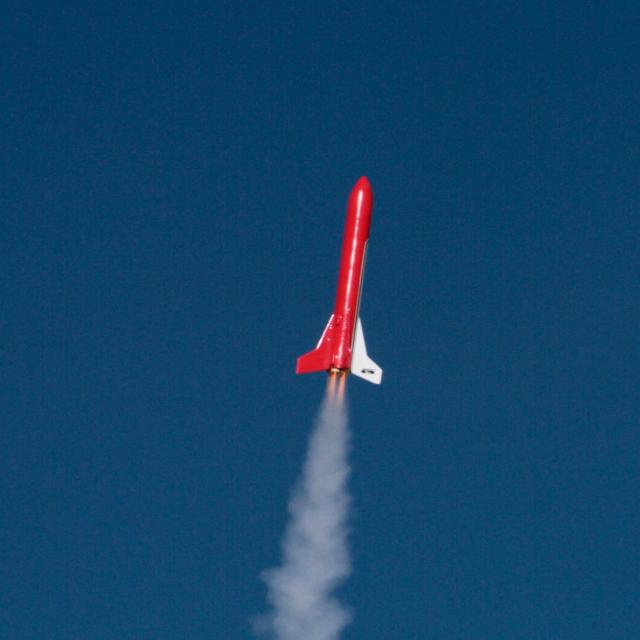Rocket: (293, 174, 384, 386)
